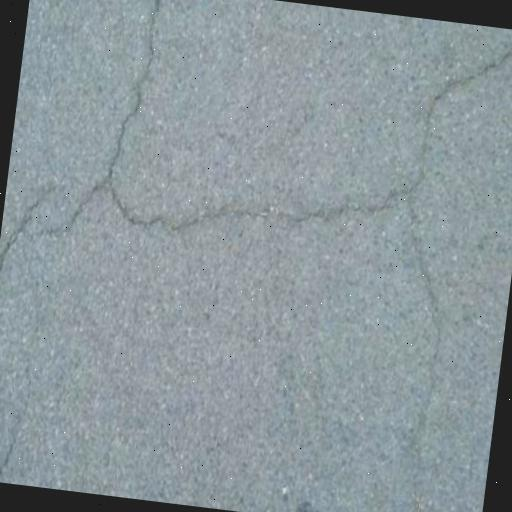spalling: (382, 36, 512, 512), (9, 0, 167, 277), (103, 162, 402, 247)
